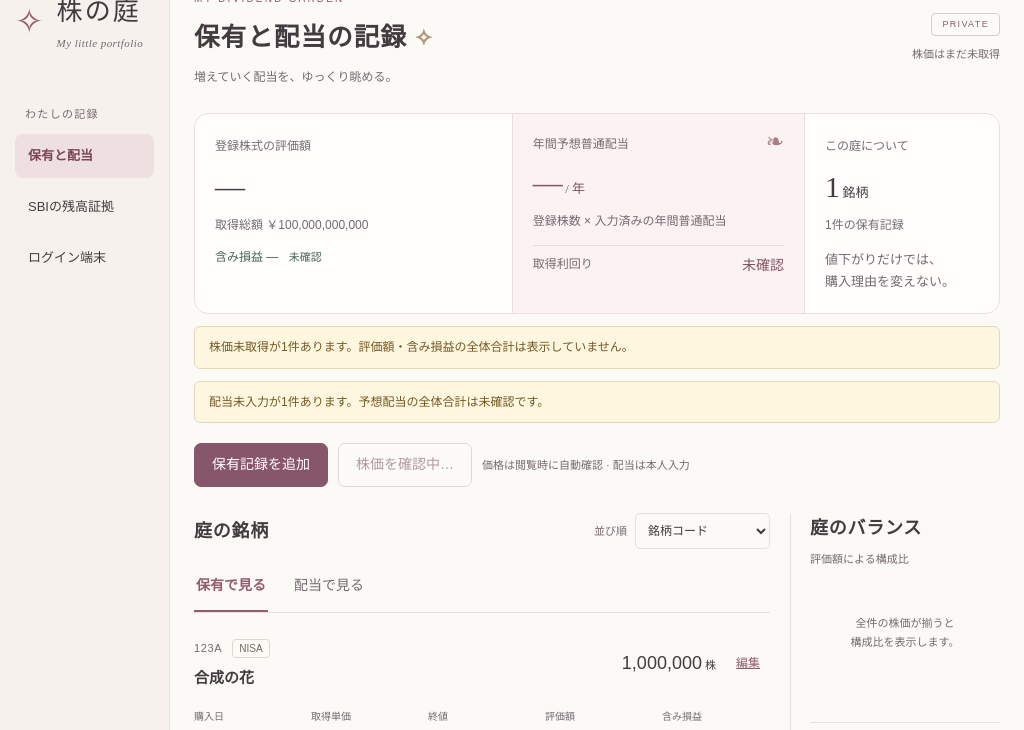
it: keeps editing usable with an explicit row valuation overflow warning after quotes arrive
Click the button with aria-label "合成の花の保有記録を編集".
click(748, 663)  # box [726, 641, 770, 685]
(page scrolled)
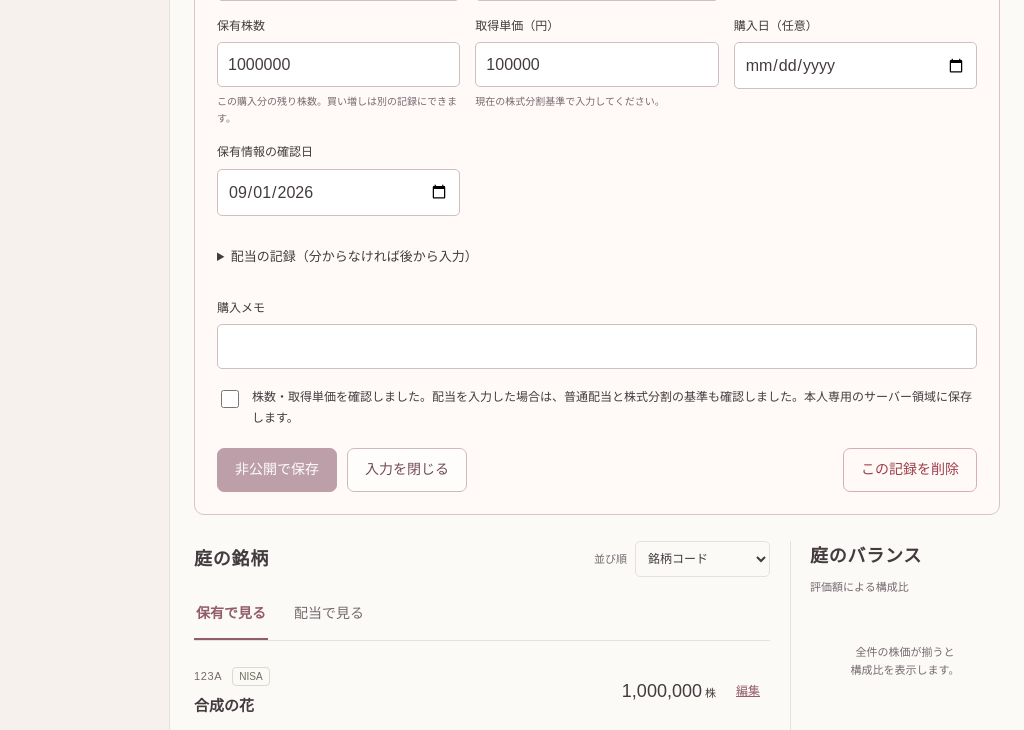
Type "株価待ちの下書き" into the field labelled "購入メモ".
click(597, 347); type("株価待ちの下書き")  # box [217, 324, 977, 370]
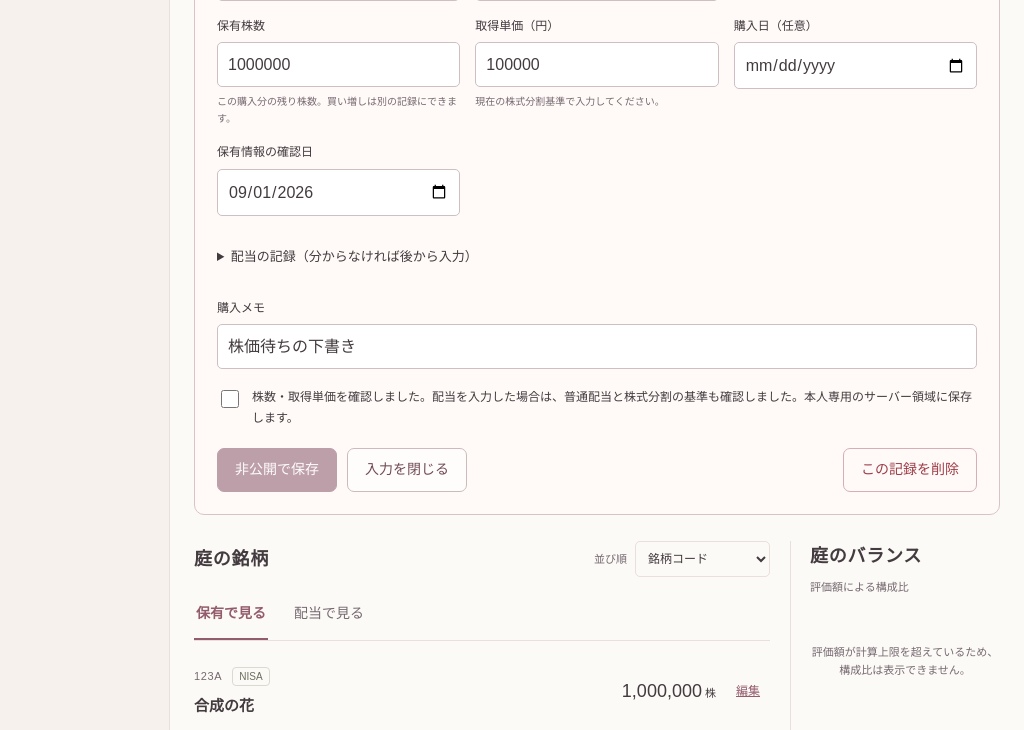
Now the text "評価額が計算上限を超えているため、構成比は表示できません。" is shown, box [812, 646, 998, 676]
Replace the text in the field labelled "保有株数" with "1" at (339,65), box [217, 42, 460, 87]
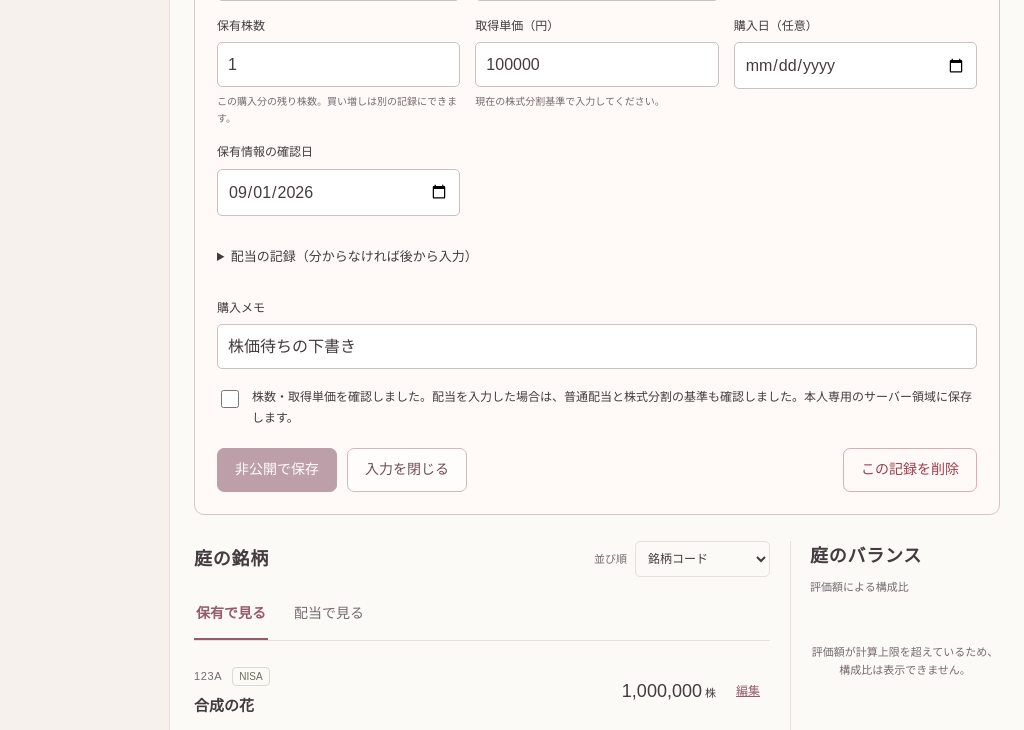
Click the checkbox.
click(230, 399)  # box [221, 390, 239, 408]
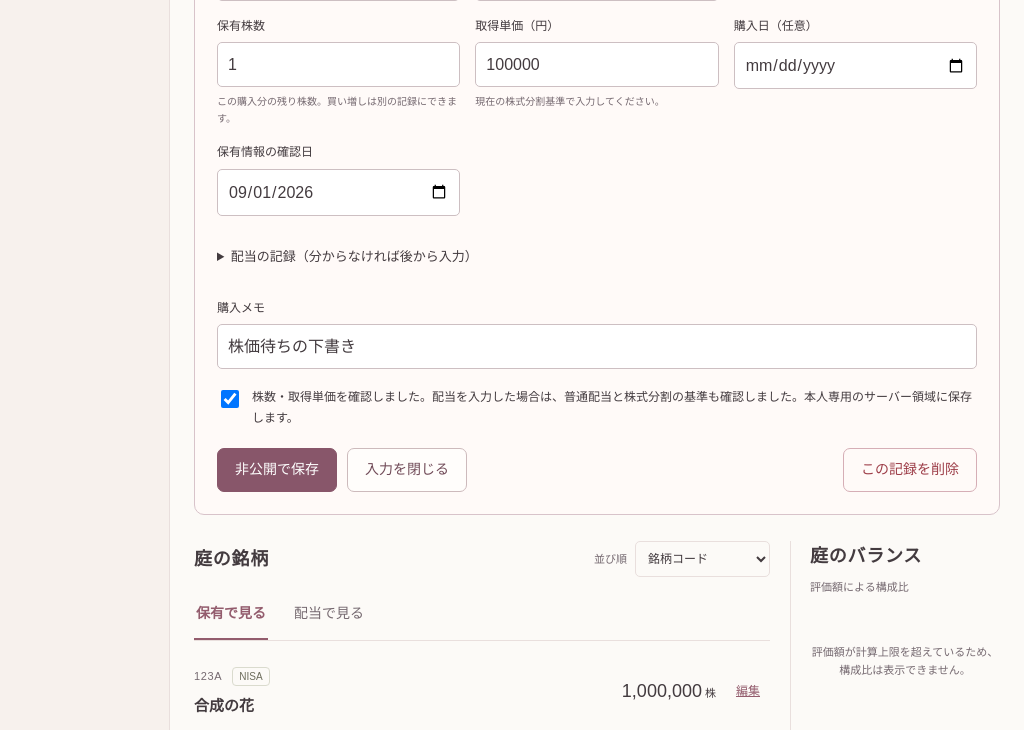
Now the button "非公開で保存" is enabled, box [217, 448, 337, 492]
